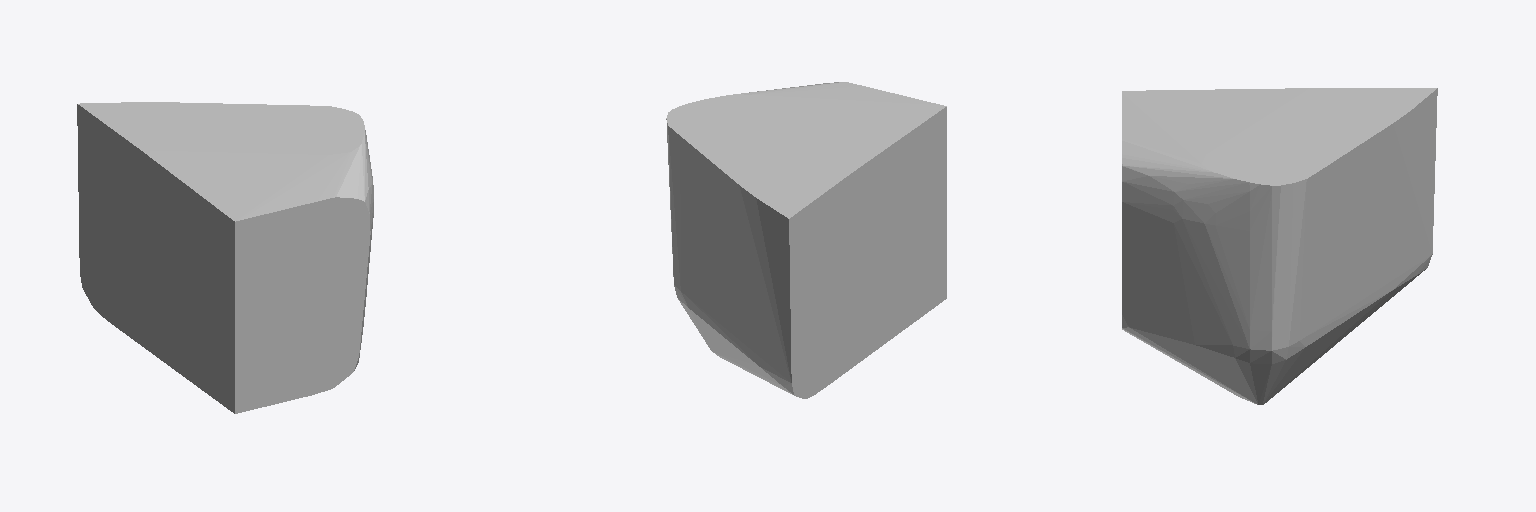
The model's file is sofa_collision_12.obj.
The picture shows the model from 3 angles: view 1: azimuth 30°, elevation 25°; view 2: azimuth 150°, elevation 25°; view 3: azimuth 270°, elevation 25°; orthographic projection.
Size of the model in its own units: 98.91 by 113 by 135.